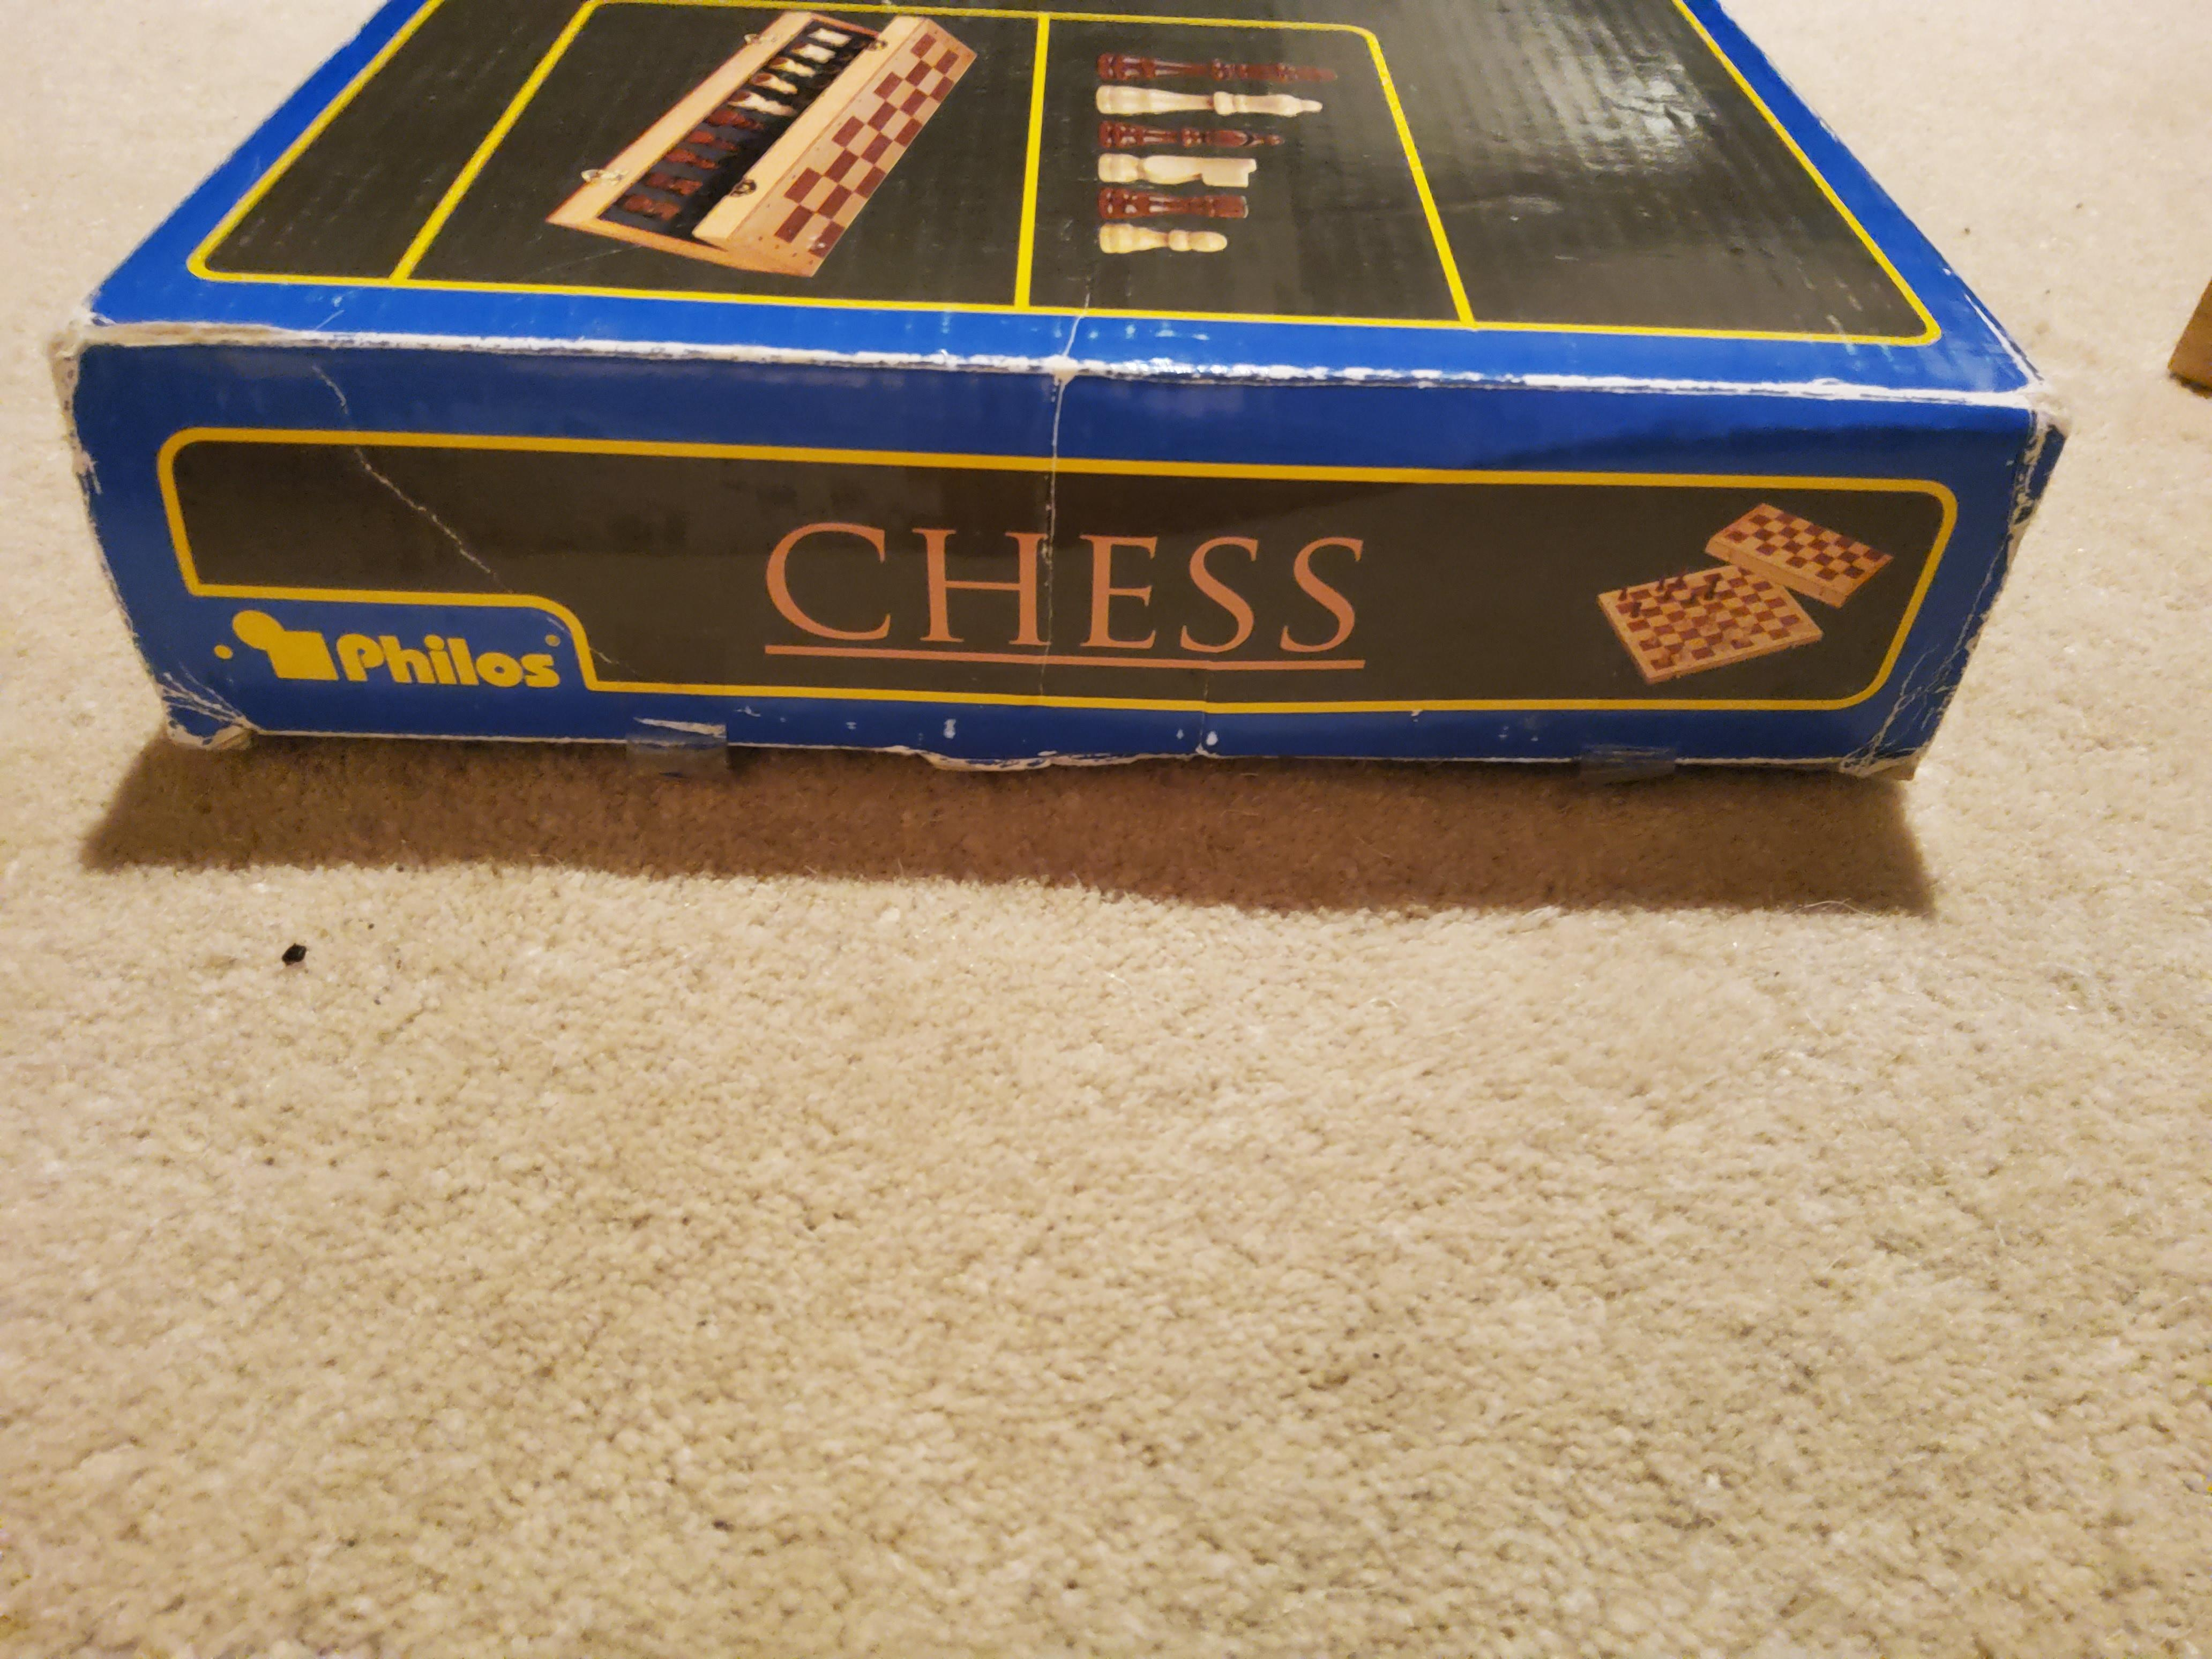schaak: (31, 5, 2085, 782)
